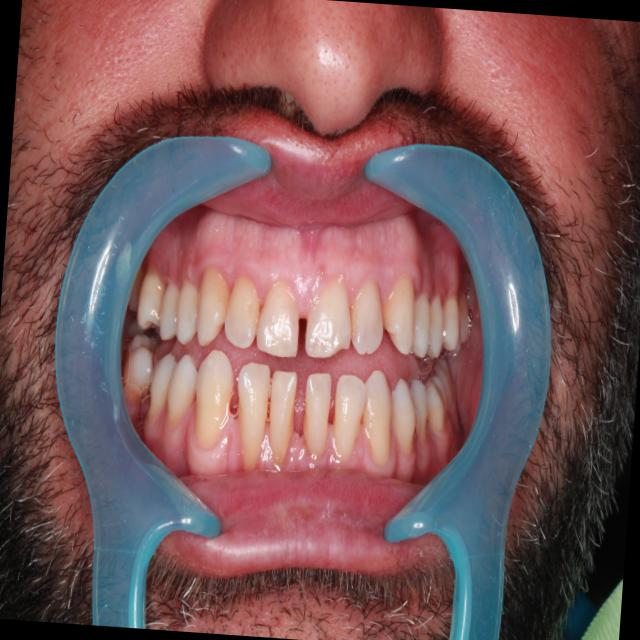tooth: (188, 343, 238, 456), (229, 356, 275, 475), (300, 273, 358, 364), (354, 364, 401, 474), (326, 366, 370, 470), (252, 277, 305, 363), (375, 268, 421, 358), (344, 269, 389, 359), (193, 257, 236, 350), (217, 266, 264, 351), (296, 364, 336, 463), (264, 366, 300, 469), (118, 329, 164, 409), (162, 349, 201, 432), (387, 371, 423, 460), (170, 269, 206, 349), (132, 258, 167, 338), (145, 349, 181, 421), (419, 369, 453, 438), (155, 273, 187, 346), (404, 286, 434, 363), (436, 283, 465, 358), (404, 369, 432, 445), (422, 286, 447, 364), (430, 352, 459, 414), (451, 286, 476, 348), (124, 259, 147, 315), (125, 313, 149, 342)
